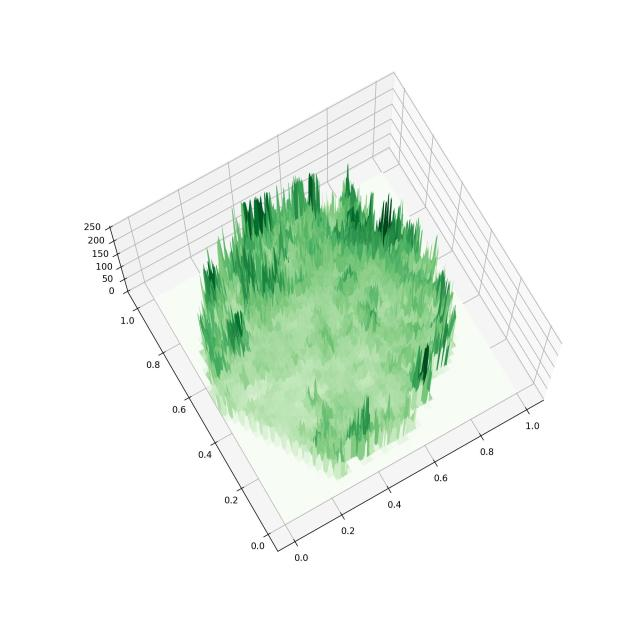spruce: (76, 49, 586, 571)
